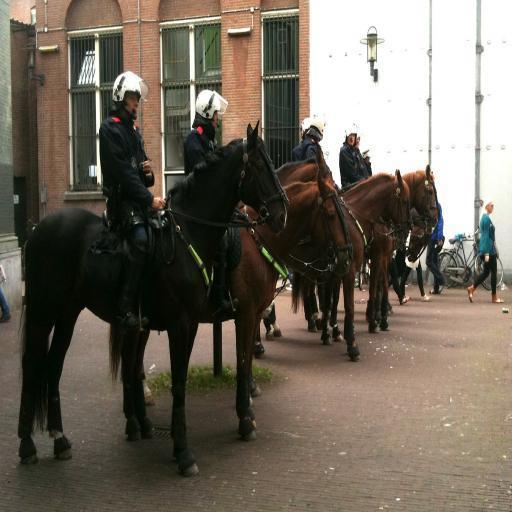horse: (16, 117, 438, 482)
